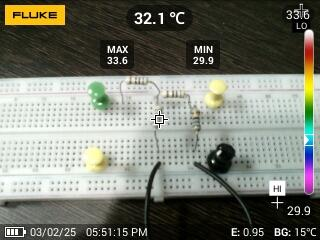resistor: (149, 106, 168, 132), (188, 104, 202, 134), (122, 73, 150, 87), (160, 87, 188, 99)
